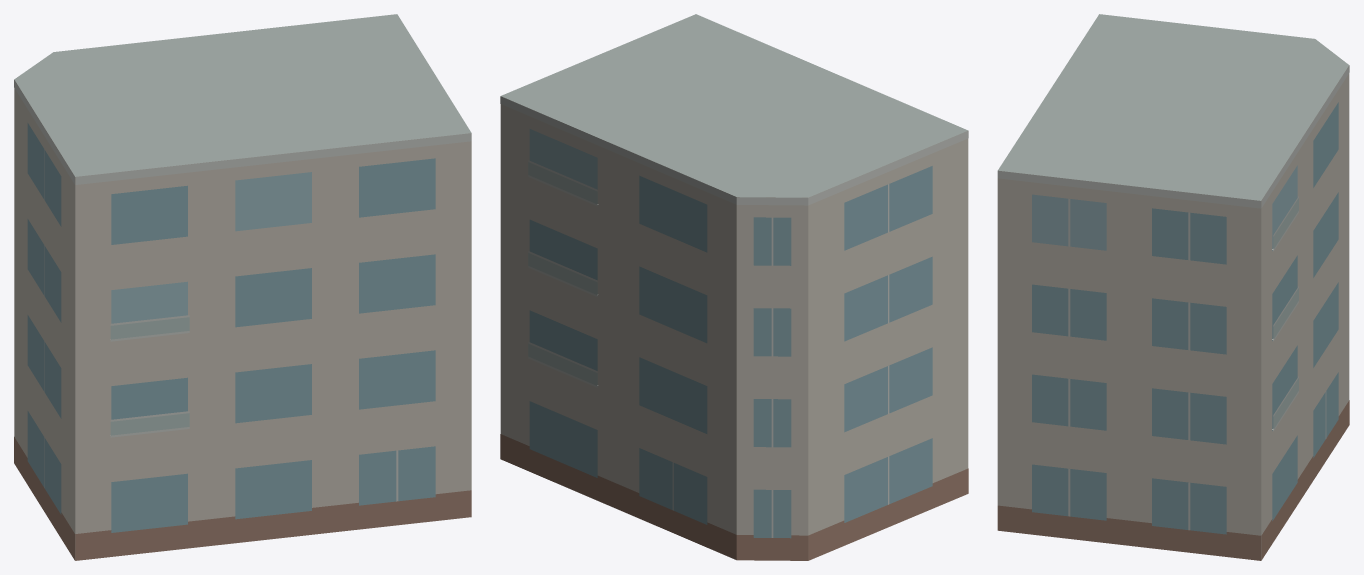
The model's file is survey-upis-33016320.glb.
3 views of the same model, side by side, from view 1: azimuth 30°, elevation 25°; view 2: azimuth 150°, elevation 25°; view 3: azimuth 270°, elevation 25° (orthographic). The views are drawn at different scales.
Visible parts, largest first — view 1: survey-upis-33016320.tmp; view 2: survey-upis-33016320.tmp; view 3: survey-upis-33016320.tmp.
Part boxes in pixels (x1,y1,x2,y2): survey-upis-33016320.tmp: [14, 14, 471, 560]; survey-upis-33016320.tmp: [500, 14, 968, 560]; survey-upis-33016320.tmp: [997, 14, 1349, 560].
Bounding box in the file's own units: 12.7 × 11.4 × 10.11.
